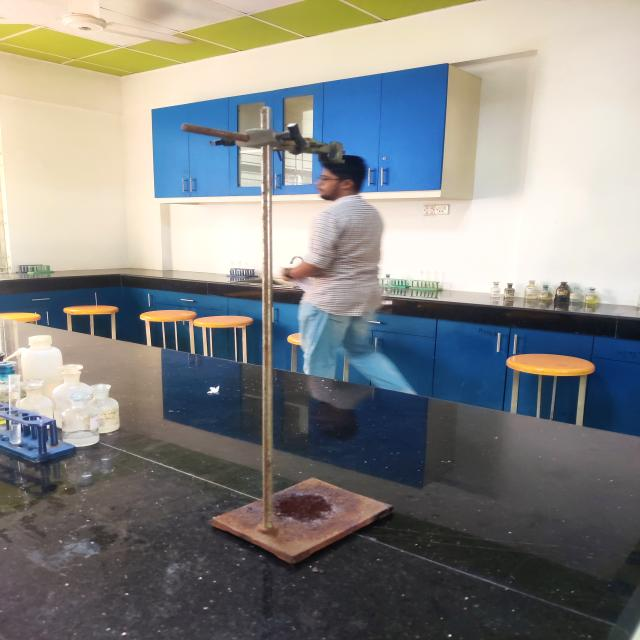Burette_Stands: (165, 110, 398, 570)
